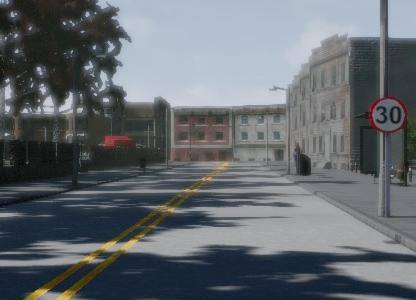Speed_30: (368, 93, 409, 137)
